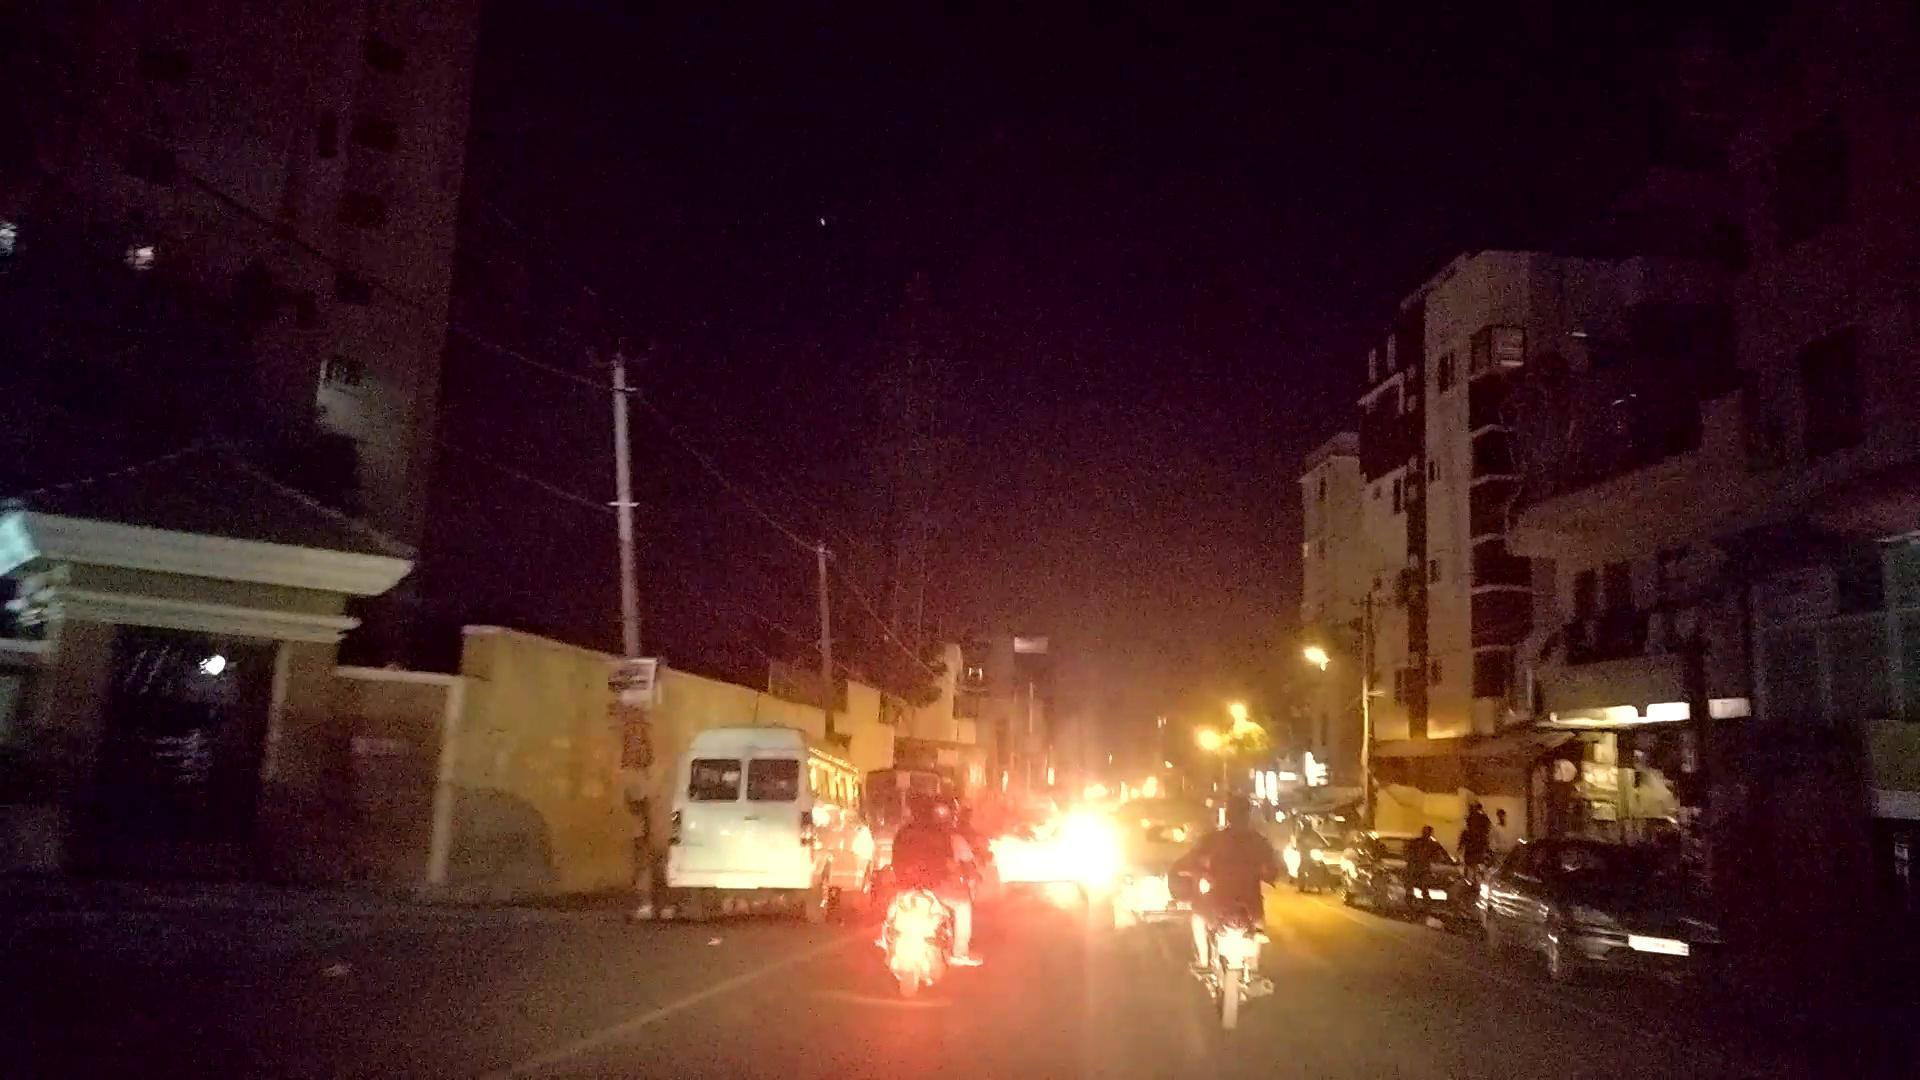on: (1240, 603, 1655, 1027)
